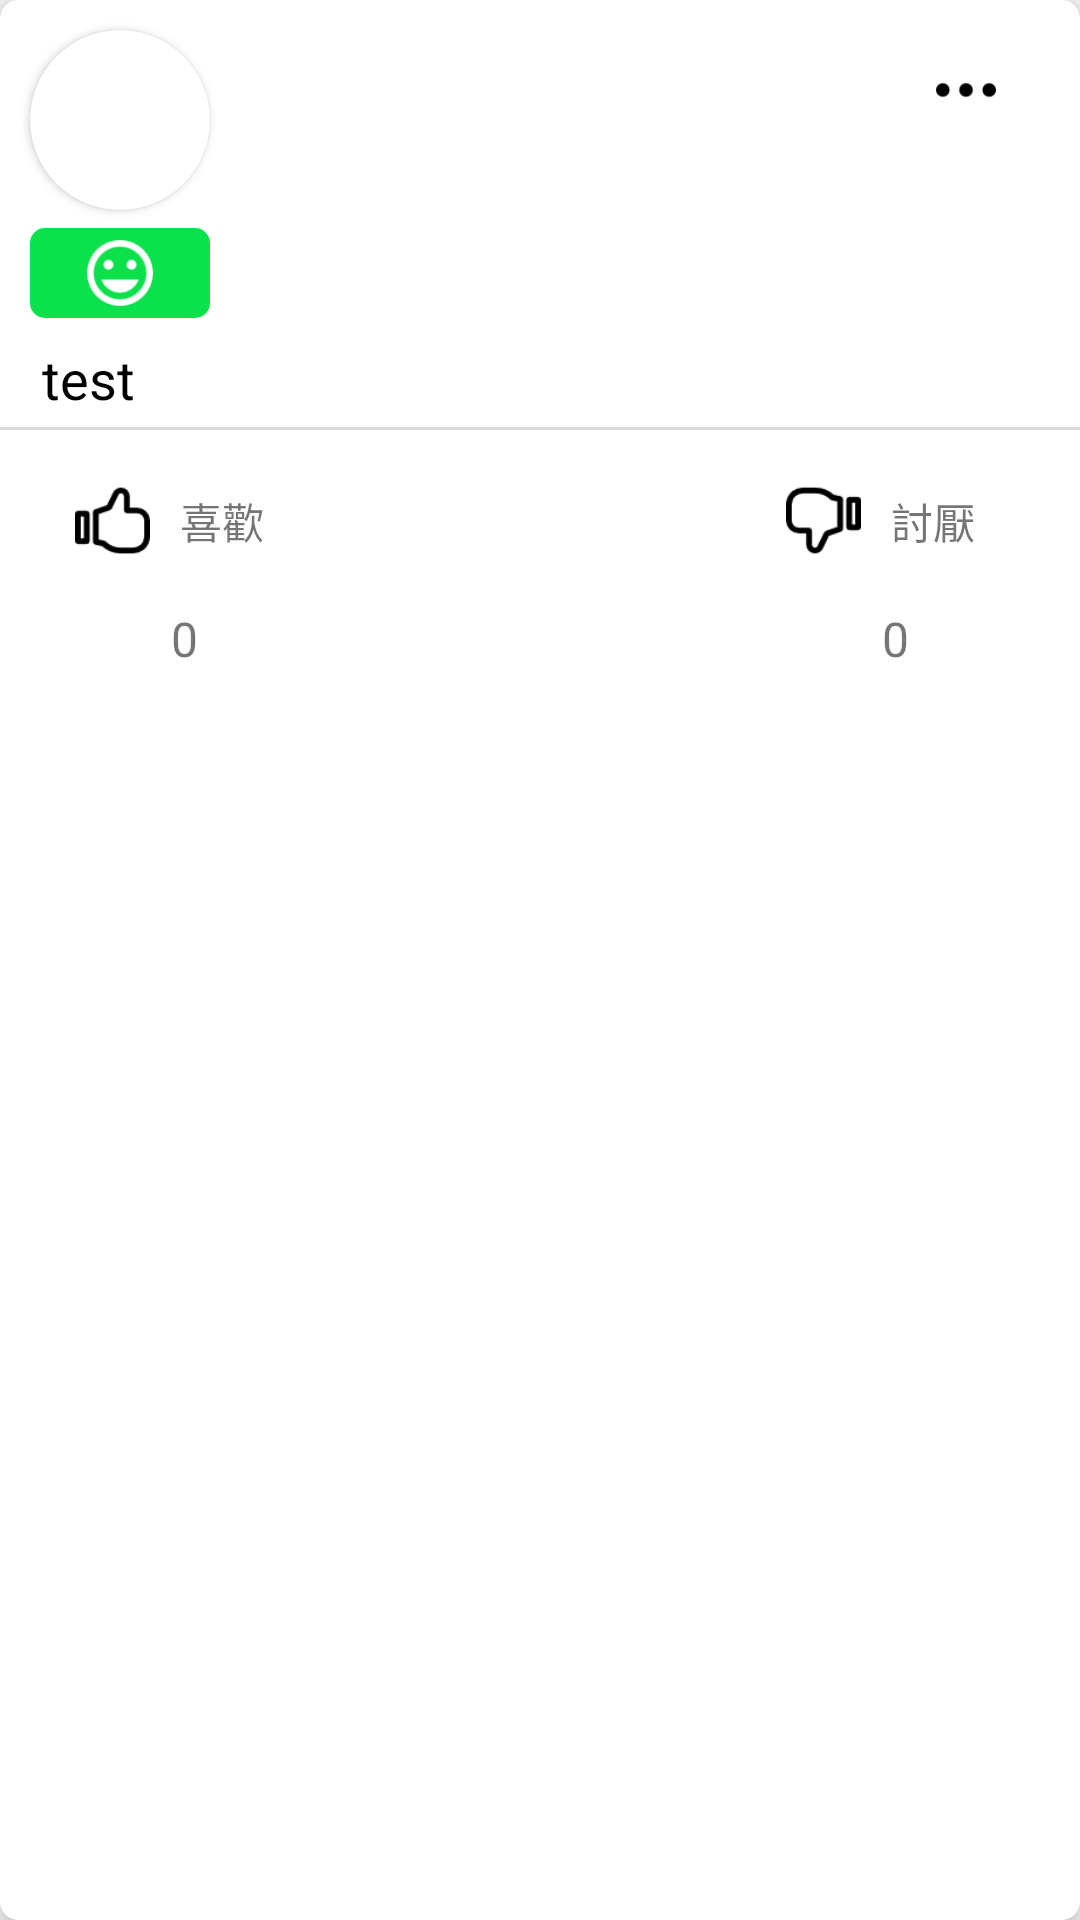

Named icons in this screenshot (1080px x 1920px) and their centers, (x=x, y=y):
happy face: (x=120, y=273)
three dots: (x=966, y=90)
thumb down: (x=823, y=520)
thumb up: (x=112, y=520)
